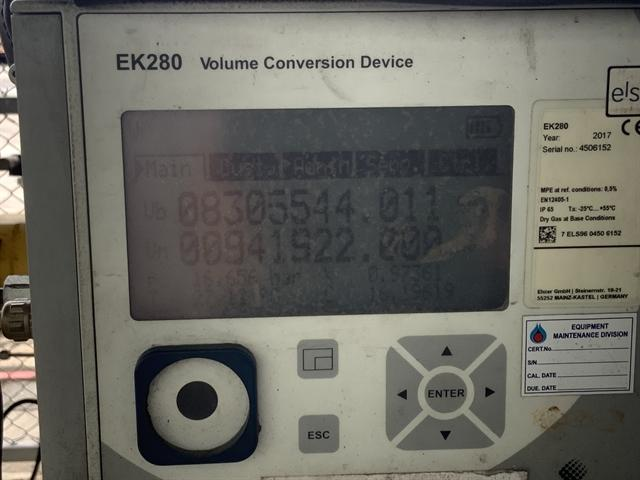digital_screen: (123, 107, 516, 320)
